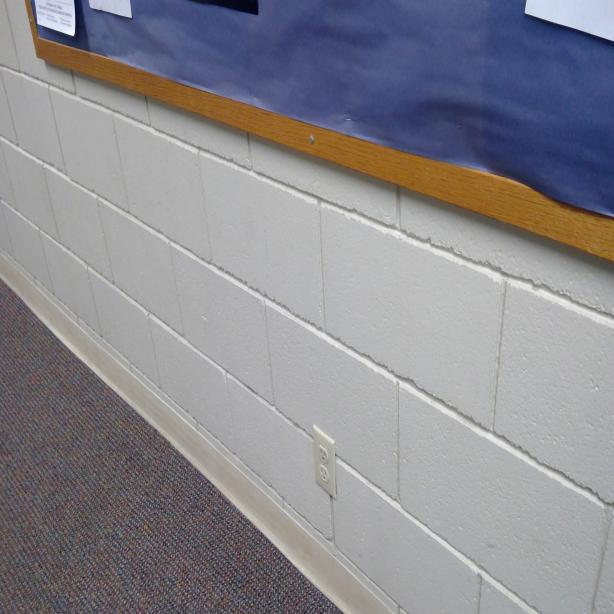typeb: (317, 442, 328, 465), (318, 464, 329, 484)
